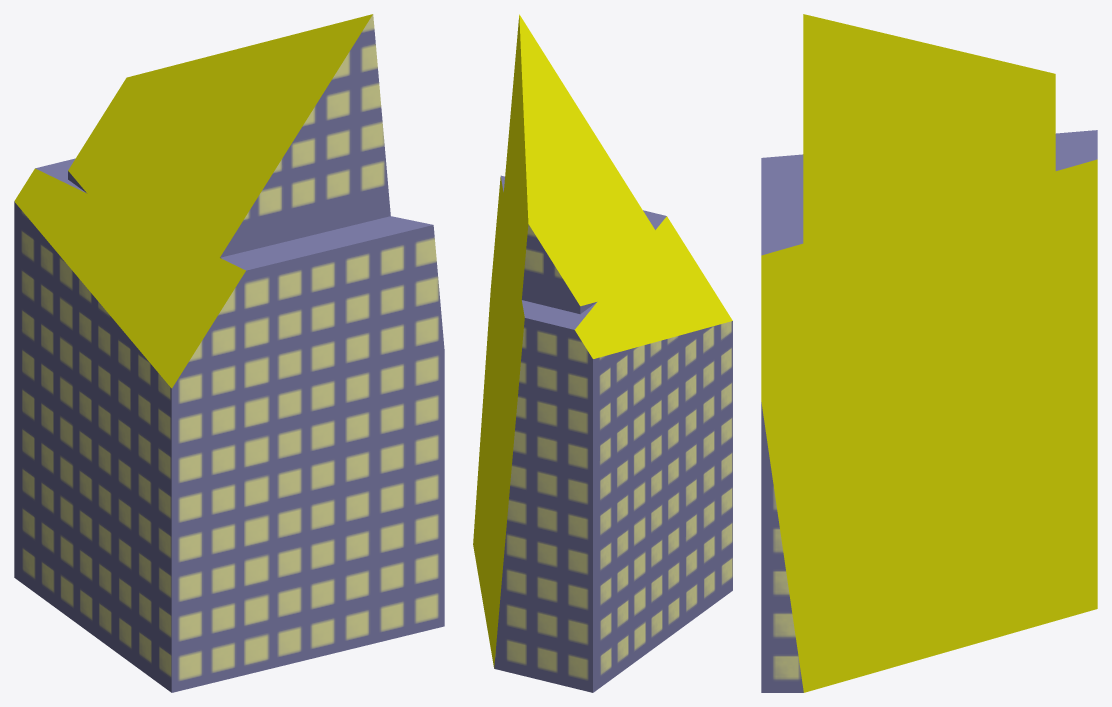
File: CB1Shard5.fbx
3 views of the same model, side by side, from view 1: azimuth 30°, elevation 25°; view 2: azimuth 150°, elevation 25°; view 3: azimuth 270°, elevation 25° (orthographic). The views are drawn at different scales.
Visible parts, largest first — view 1: shard11; view 2: shard11; view 3: shard11.
Part boxes in pixels (x1,y1,x2,y2): shard11: (14, 14, 444, 692); shard11: (473, 14, 732, 692); shard11: (761, 14, 1097, 692).
Bounding box in the file's own units: 0.0953 × 0.2037 × 0.0953.
Materials: 2 (1 with a texture image).
